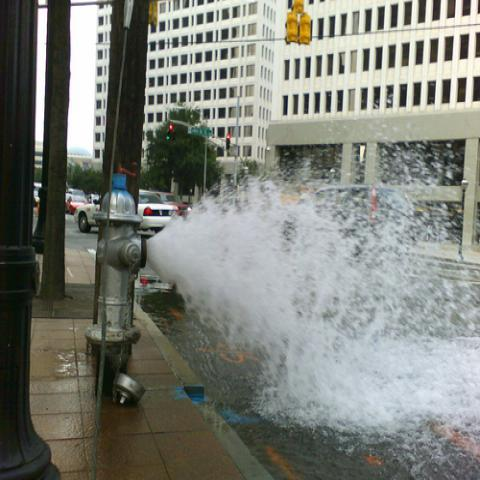car: (283, 188, 418, 259), (74, 190, 178, 232), (151, 191, 188, 214), (66, 195, 90, 214), (86, 194, 101, 204)
